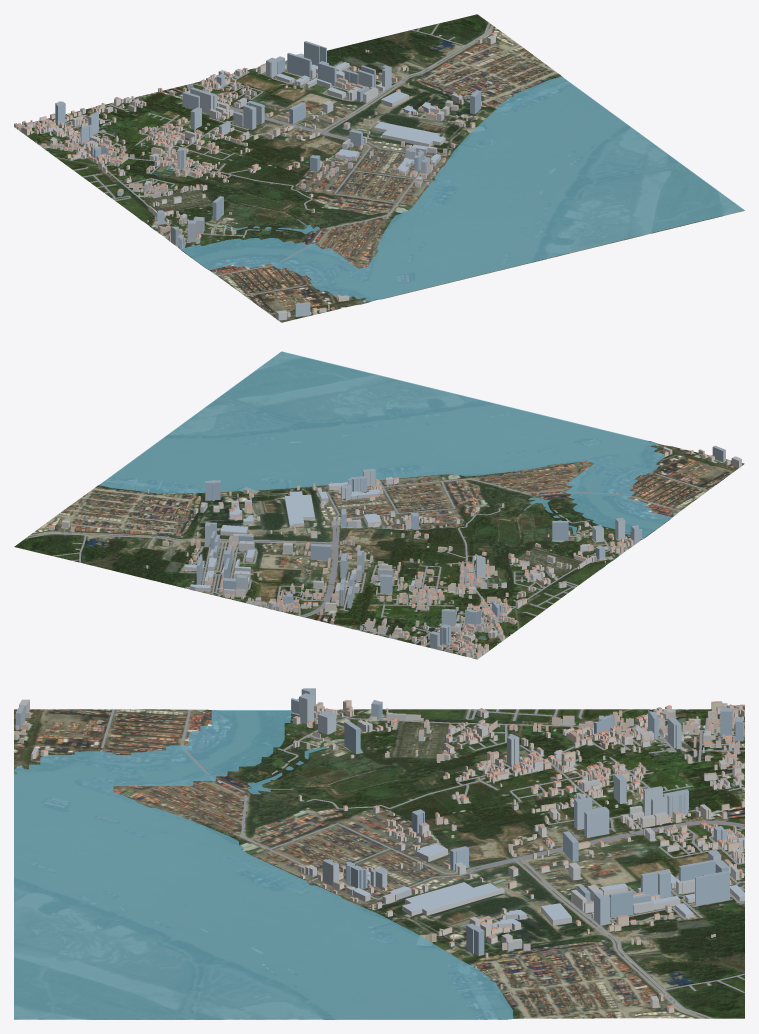
3 renders of one model, top to bottom at view 1: azimuth 30°, elevation 25°; view 2: azimuth 150°, elevation 25°; view 3: azimuth 270°, elevation 25°, orthographic. The views are drawn at different scales.
Parts seen in each view (by area): view 1: TERRAIN, WATER, BLDG_MODERN_TOWER, BLDG_SHOPHOUSE_VILLA, ROAD_METRO, BLDG_TUBE_HOUSE, BLDG_INDUSTRIAL_PORT, BLDG_APARTMENT; view 2: TERRAIN, WATER, BLDG_SHOPHOUSE_VILLA, BLDG_MODERN_TOWER, ROAD_METRO, BLDG_TUBE_HOUSE, BLDG_INDUSTRIAL_PORT, BLDG_APARTMENT; view 3: TERRAIN, WATER, BLDG_MODERN_TOWER, BLDG_SHOPHOUSE_VILLA, ROAD_METRO, BLDG_TUBE_HOUSE, BLDG_INDUSTRIAL_PORT, BLDG_APARTMENT.
Boxes of the visible parts, x1,y1,x2,y2 form: TERRAIN: [16, 14, 744, 322]; WATER: [137, 76, 744, 301]; BLDG_MODERN_TOWER: [55, 41, 481, 316]; BLDG_SHOPHOUSE_VILLA: [14, 32, 497, 317]; ROAD_METRO: [19, 23, 492, 296]; BLDG_TUBE_HOUSE: [17, 49, 522, 314]; BLDG_INDUSTRIAL_PORT: [276, 53, 445, 174]; BLDG_APARTMENT: [50, 35, 495, 320]; TERRAIN: [14, 352, 744, 658]; WATER: [99, 351, 677, 569]; BLDG_SHOPHOUSE_VILLA: [48, 449, 730, 659]; BLDG_MODERN_TOWER: [196, 445, 725, 648]; ROAD_METRO: [26, 472, 708, 657]; BLDG_TUBE_HOUSE: [146, 450, 693, 657]; BLDG_INDUSTRIAL_PORT: [184, 482, 381, 591]; BLDG_APARTMENT: [61, 447, 741, 641]; TERRAIN: [14, 709, 744, 1019]; WATER: [14, 710, 518, 1018]; BLDG_MODERN_TOWER: [15, 688, 743, 956]; BLDG_SHOPHOUSE_VILLA: [14, 700, 744, 1012]; ROAD_METRO: [100, 709, 744, 1018]; BLDG_TUBE_HOUSE: [15, 705, 744, 989]; BLDG_INDUSTRIAL_PORT: [343, 843, 744, 930]; BLDG_APARTMENT: [19, 699, 744, 1007].
Bounding box in the file's own units: 2000 × 88.73 × 2000.
Materials: 8 (1 with a texture image).
